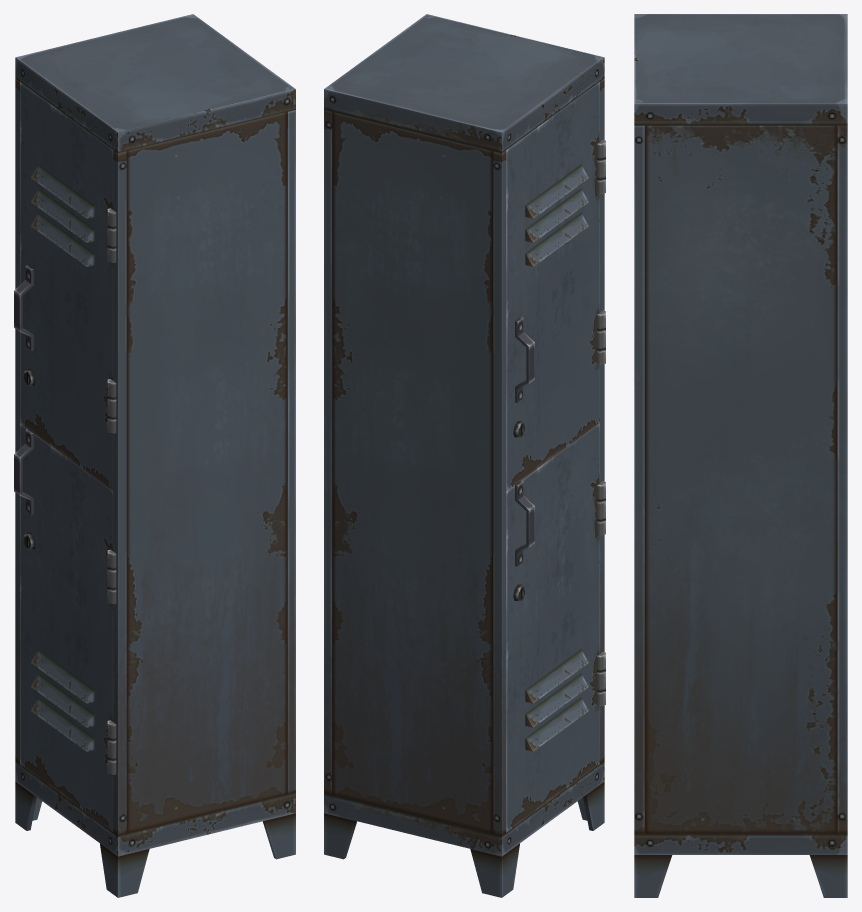
Rendered from locker01.FBX.
The picture shows the model from 3 angles, left to right: view 1: azimuth 30°, elevation 25°; view 2: azimuth 150°, elevation 25°; view 3: azimuth 270°, elevation 25°; orthographic projection. The views are drawn at different scales.
Visible parts, largest first — view 1: locker01, locker01_door02, locker01_door01; view 2: locker01, locker01_door01, locker01_door02; view 3: locker01.
Boxes of the visible parts, x1,y1,x2,y2 form: locker01: (15,14,295,897); locker01_door02: (14,82,116,490); locker01_door01: (14,423,116,831); locker01: (324,14,604,897); locker01_door01: (506,423,605,832); locker01_door02: (506,82,605,490); locker01: (634,14,847,897).
Bounding box in the file's own units: 48.61 × 185 × 45.
